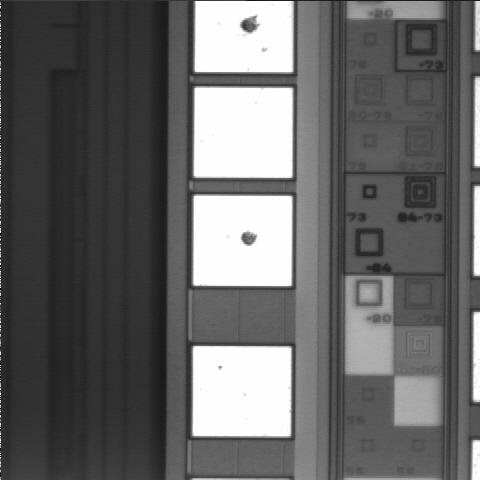pad: (194, 88, 293, 178), (193, 196, 292, 286), (193, 346, 291, 436)
